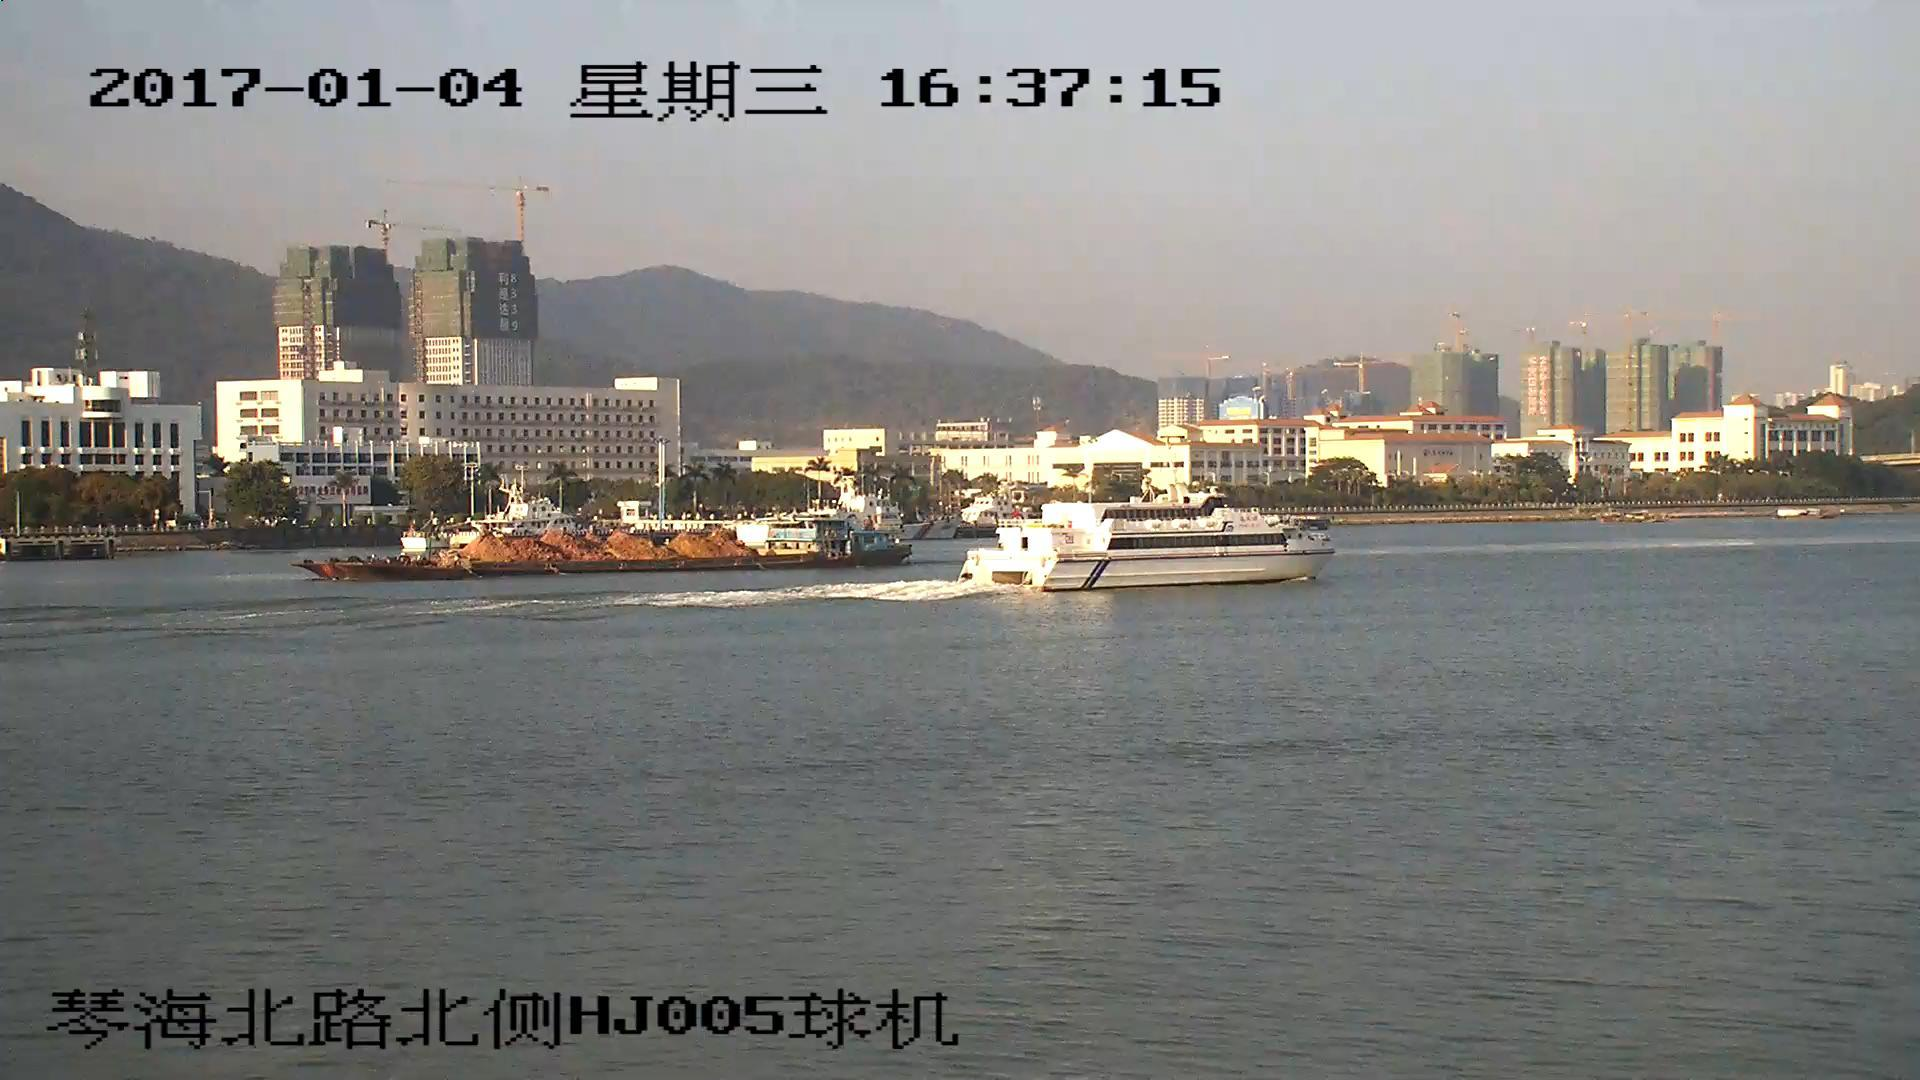Ship: (963, 459, 1325, 589), (305, 505, 911, 582)
